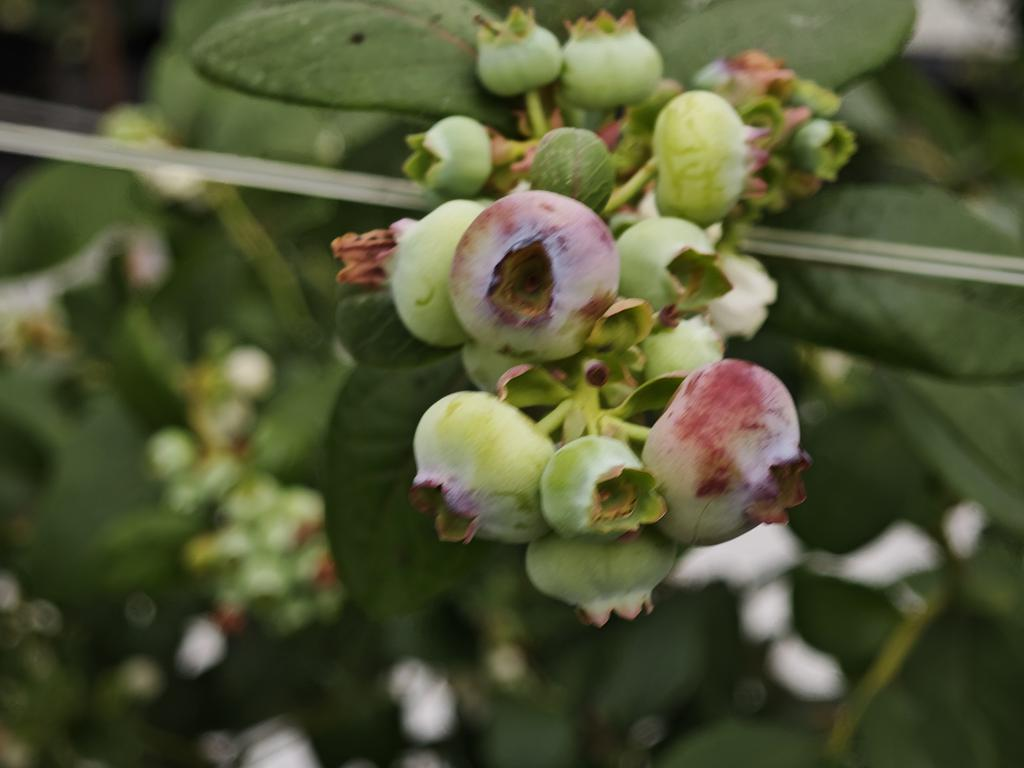Semi-RipeBlueBerry: (642, 354, 805, 547), (447, 188, 621, 366)
UnripeBlueBerry: (407, 387, 560, 548), (540, 433, 665, 546)
